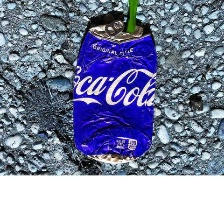can: (68, 17, 161, 165)
drinking_straw: (121, 0, 143, 35)
